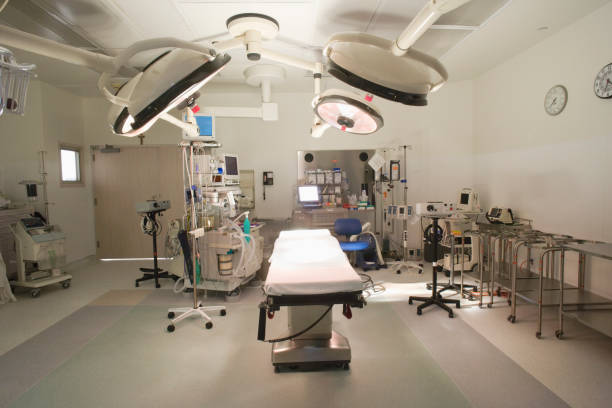bedside_monitor: (180, 113, 218, 138), (221, 154, 240, 182), (298, 185, 319, 203)
breathing_tube: (232, 221, 254, 275)
chair: (334, 218, 374, 268)
dispenser: (261, 169, 276, 186)
iv_pole: (177, 140, 215, 308), (397, 145, 414, 260), (39, 145, 52, 204)
operating_bed: (255, 227, 369, 376)
surgical_light: (107, 43, 235, 137), (325, 42, 437, 107), (310, 88, 385, 137)
utility_cart: (551, 237, 612, 341)
ventilator: (176, 181, 251, 296)
